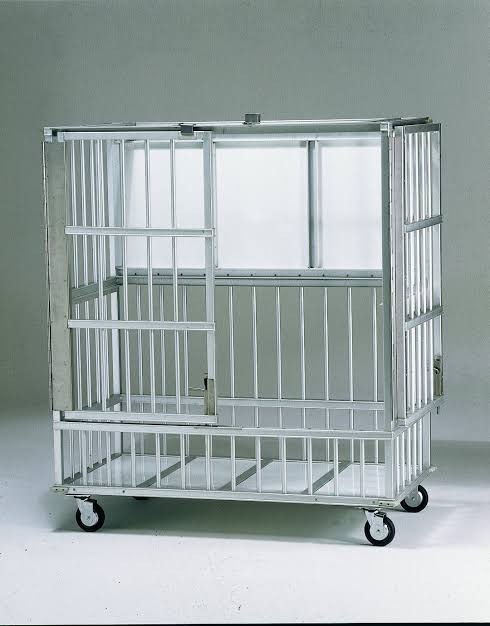Carts: (39, 115, 444, 547)
